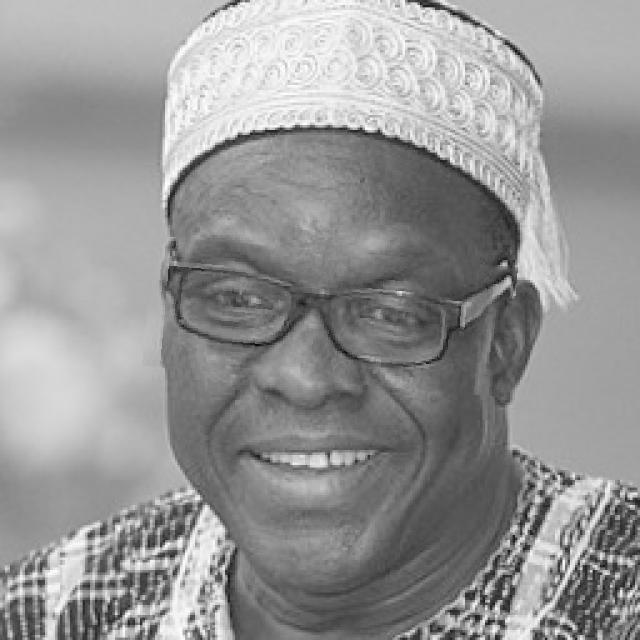glasses: (144, 243, 516, 390)
